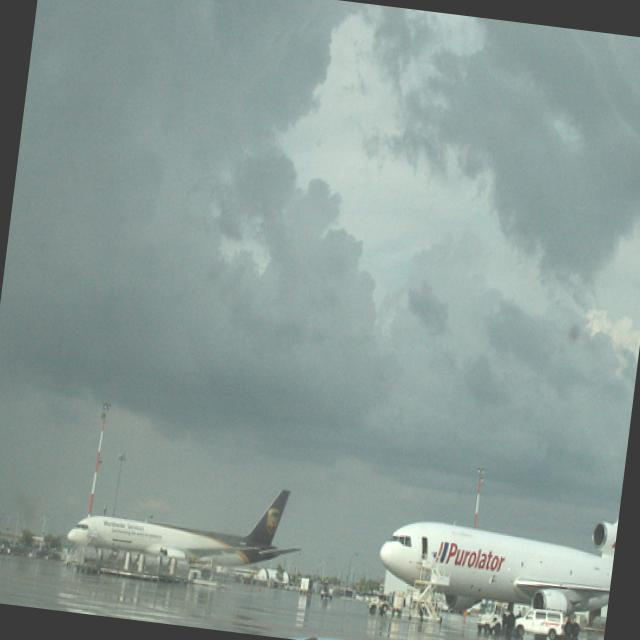Vehicle: (513, 603, 568, 640), (476, 598, 516, 637)
